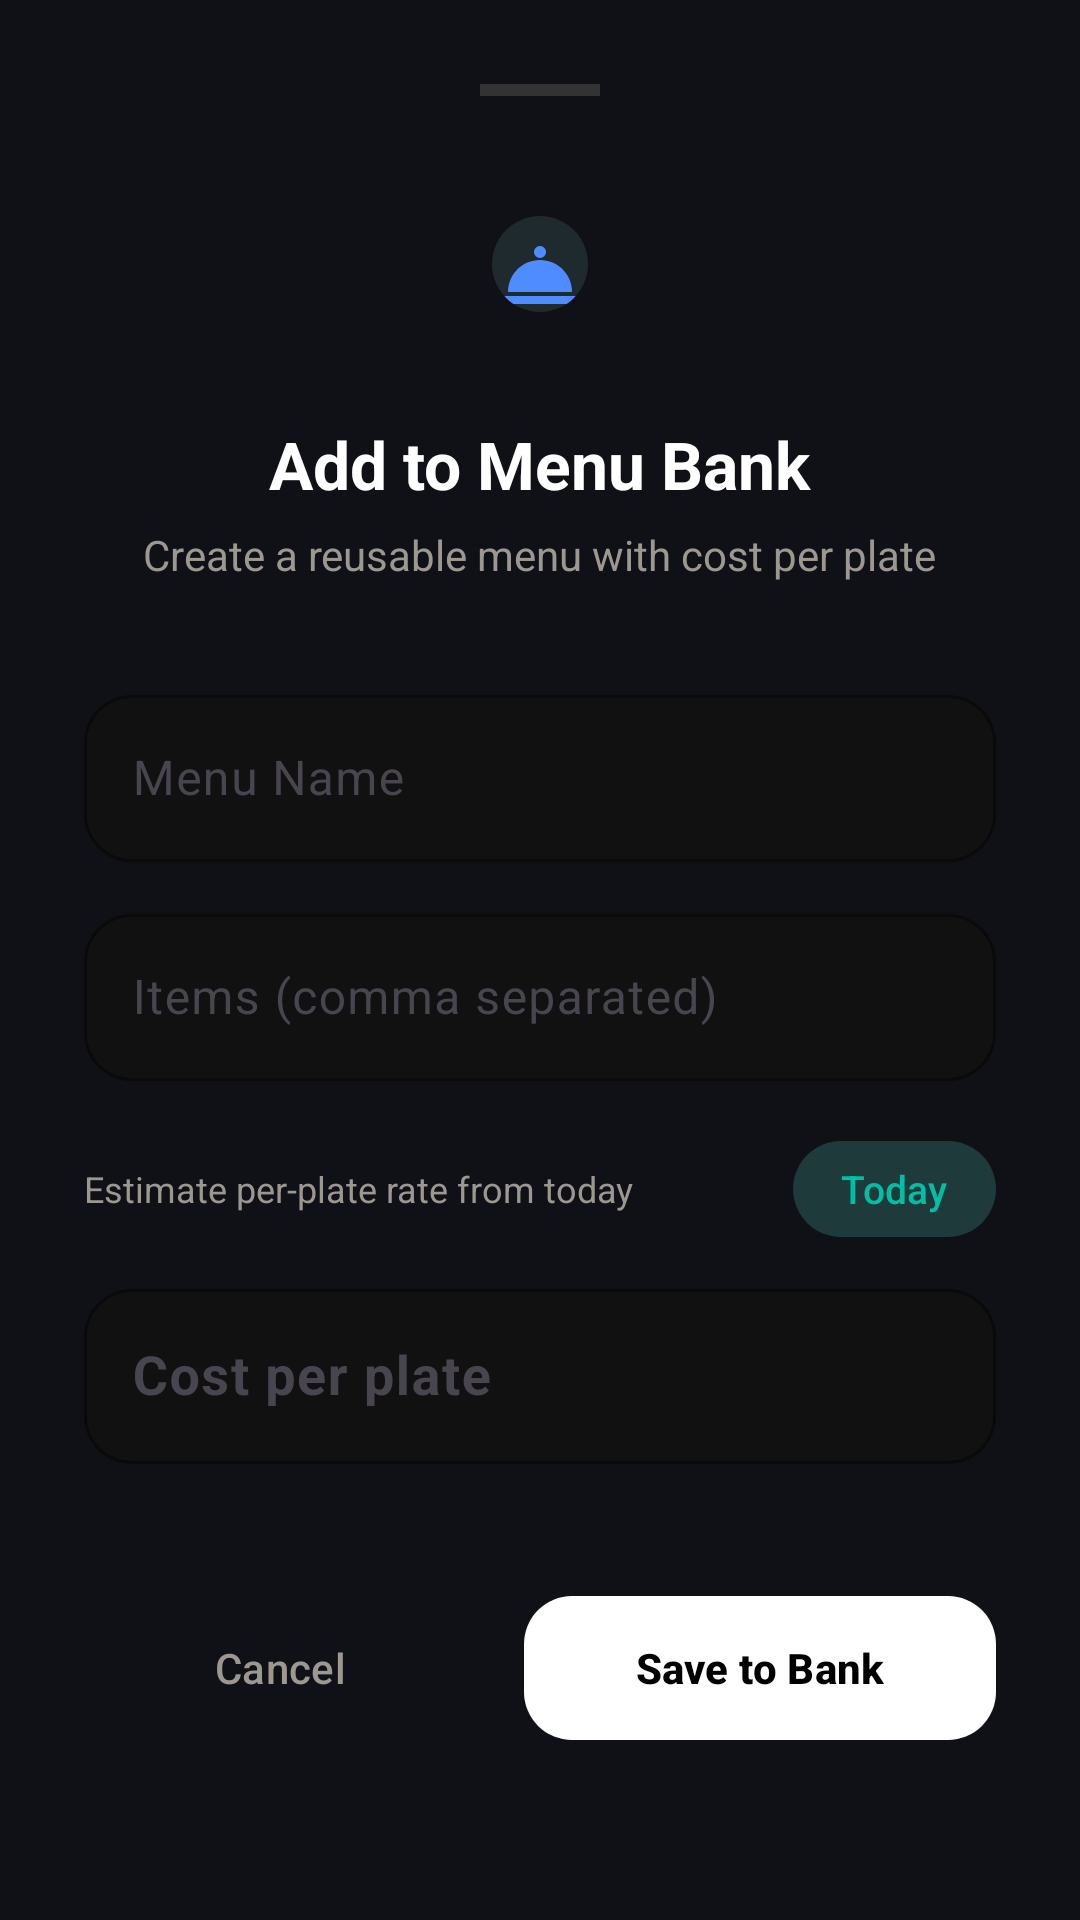

Named icons in this screenshot (1080px×1920px) and their centers, point (x, y):
meal plate: point (539, 264)
